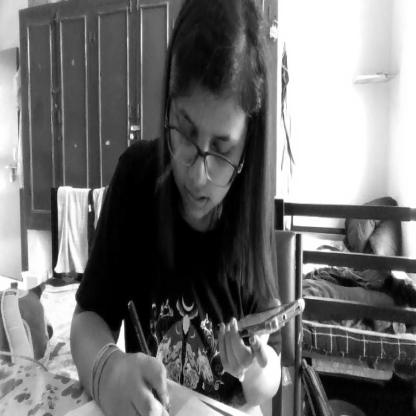Normal: (164, 0, 262, 236)
